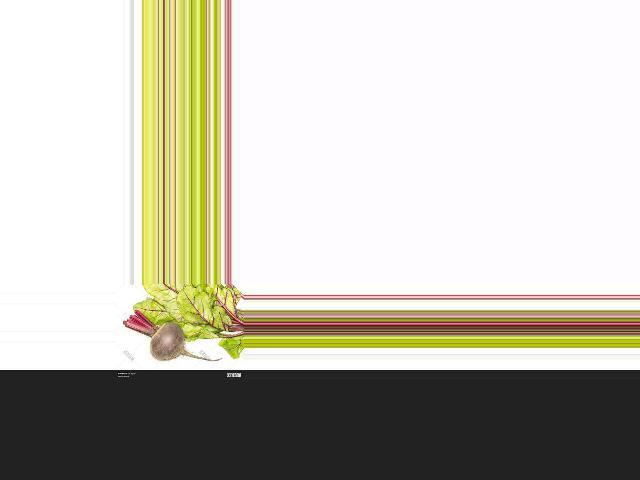beet: (122, 310, 221, 361)
